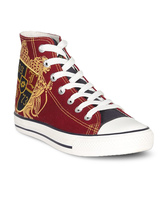shoes: (13, 28, 157, 158)
